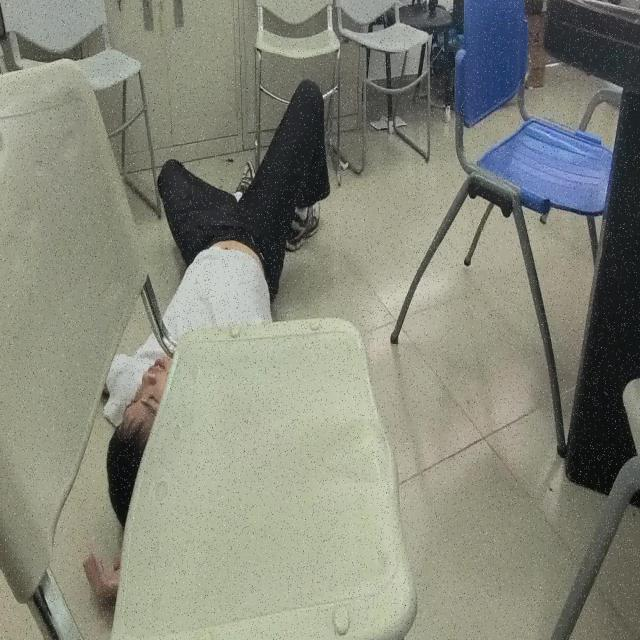fall: (80, 77, 329, 603)
